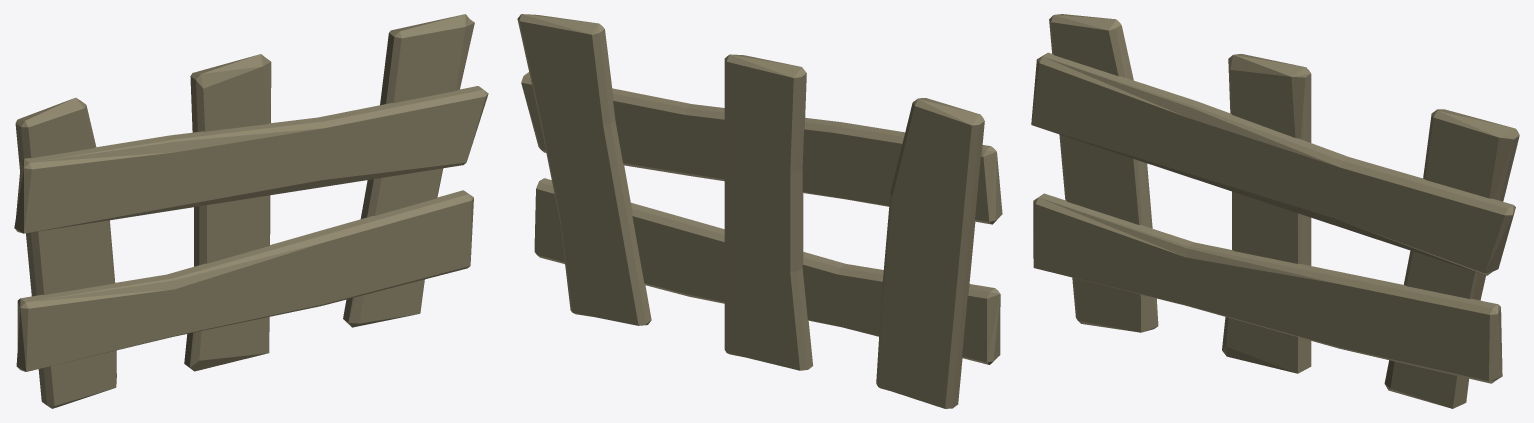
Rendered from fence_1.FBX.
The picture shows the model from 3 angles, left to right: view 1: azimuth 30°, elevation 25°; view 2: azimuth 150°, elevation 25°; view 3: azimuth 330°, elevation 25°; orthographic projection. The views are drawn at different scales.
Visible parts, largest first — view 1: Box002; view 2: Box002; view 3: Box002.
Boxes of the visible parts, left/top/right/bottom form: Box002: left=14, top=14, right=488, bottom=408; Box002: left=517, top=14, right=1002, bottom=408; Box002: left=1031, top=14, right=1519, bottom=408.
Size of the model in its own units: 19.58 by 11.98 by 1.33.
